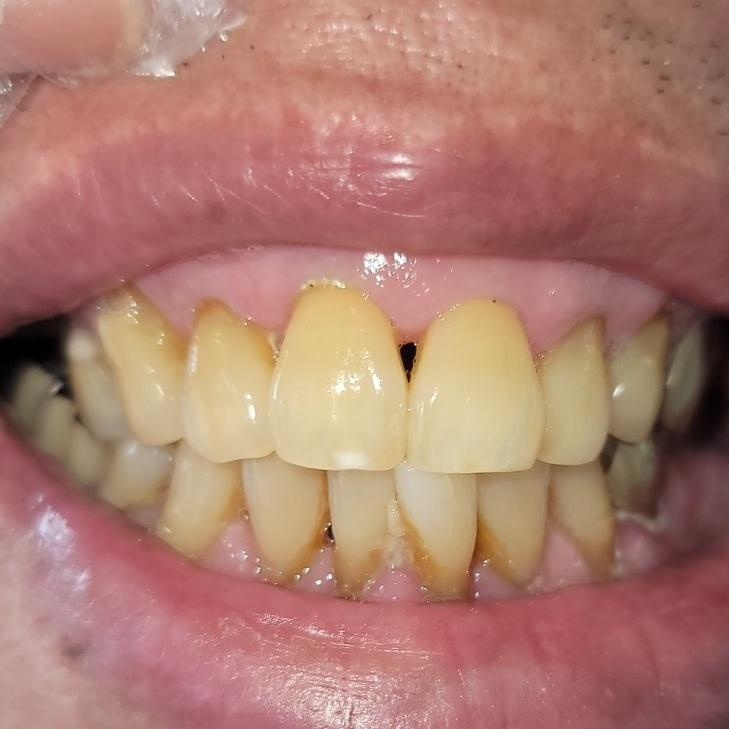Gap: (313, 297, 499, 429)
